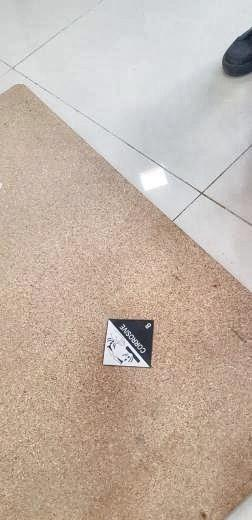corrosive: (102, 318, 155, 369)
